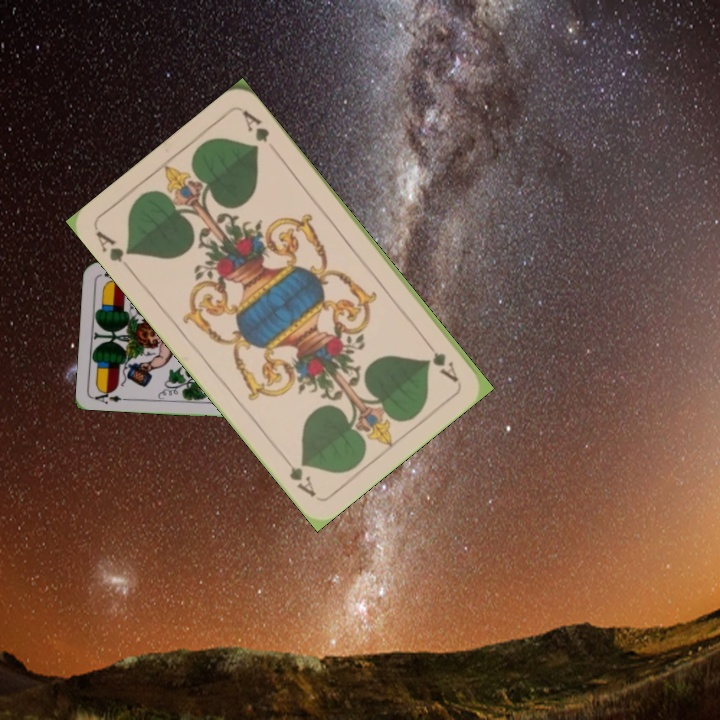EA: (91, 386, 131, 406)
GA: (91, 226, 136, 276), (419, 335, 461, 385)
